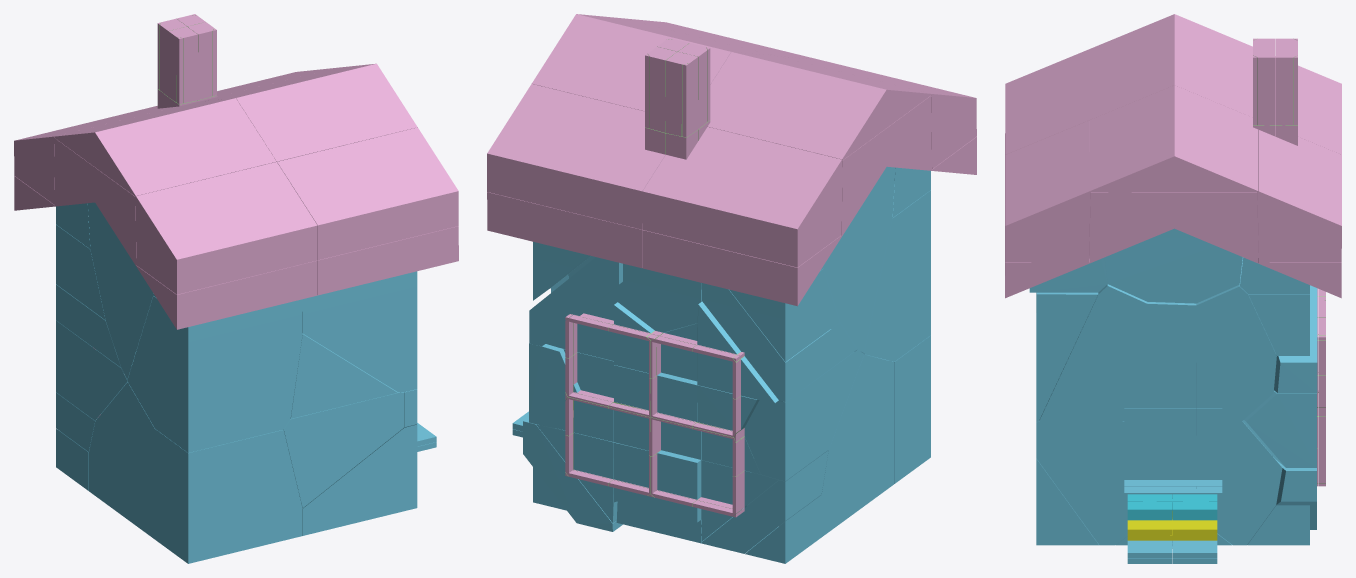
The model's file is Home2.fbx.
3 renders of one model, left to right at view 1: azimuth 30°, elevation 25°; view 2: azimuth 150°, elevation 25°; view 3: azimuth 270°, elevation 25°, orthographic. The views are drawn at different scales.
Parts seen in each view (by area): view 1: Cube_cell.004, Cube.001_cell.007, Cube_cell.005, Cube.001_cell.006, Cube.001_cell.009, Cube.001_cell.008, Cube_cell.006, Cube_cell.011, Cube_cell.012, Cube_cell.007, Cube.001_cell.001, Cube_cell.014 (+15 smaller); view 2: Cube.001_cell.010, Cube.001_cell.011, Cube.001_cell.009, Cube.001_cell.008, Cube_cell.012, Cube_cell.004, Cube_cell.045, Cube.001_cell.004, Cube_cell.014, Cube.001_cell.005, Cube_cell.031, Cube.001_cell.003 (+40 smaller); view 3: Cube.001_cell.008, Cube.001_cell.009, Cube.001_cell.006, Cube.001_cell.011, Cube.001_cell.002, Cube_cell.002, Cube_cell.003, Cube_cell.013, Cube_cell, Cube.001_cell.007, Cube_cell.001, Cube_cell.006 (+28 smaller).
Part boxes in pixels (x1,y1,x2,y2): Cube_cell.004: (127,296,302,452); Cube.001_cell.007: (135,162,317,294); Cube_cell.005: (155,429,302,563); Cube.001_cell.006: (277,127,458,260); Cube.001_cell.009: (55,98,276,196); Cube.001_cell.008: (198,63,417,161); Cube_cell.006: (302,271,417,392); Cube_cell.011: (283,392,404,508); Cube_cell.012: (89,382,154,539); Cube_cell.007: (302,424,417,535); Cube.001_cell.001: (136,260,317,329); Cube_cell.014: (88,202,153,379); Cube.001_cell.010: (642,127,842,267); Cube.001_cell.011: (487,84,665,229); Cube.001_cell.009: (707,52,931,160); Cube.001_cell.008: (531,14,775,111); Cube_cell.012: (744,352,894,536); Cube_cell.004: (824,184,930,361); Cube_cell.045: (744,350,863,481); Cube.001_cell.004: (642,230,841,306); Cube_cell.014: (823,167,895,352); Cube.001_cell.005: (487,192,642,268); Cube_cell.031: (702,283,856,401); Cube.001_cell.003: (841,96,931,235); Cube.001_cell.008: (1090,85,1257,192); Cube.001_cell.009: (1090,14,1252,119); Cube.001_cell.006: (1005,120,1090,262); Cube.001_cell.011: (1257,127,1341,261); Cube.001_cell.002: (1089,192,1258,263); Cube_cell.002: (1039,284,1147,421); Cube_cell.003: (1036,421,1147,545); Cube_cell.013: (1104,237,1242,303); Cube_cell: (1196,281,1276,421); Cube.001_cell.007: (1005,49,1089,154); Cube_cell.001: (1196,421,1282,545); Cube_cell.006: (1036,292,1098,421).
Bounding box in the file's own units: 278 × 360 × 246.
